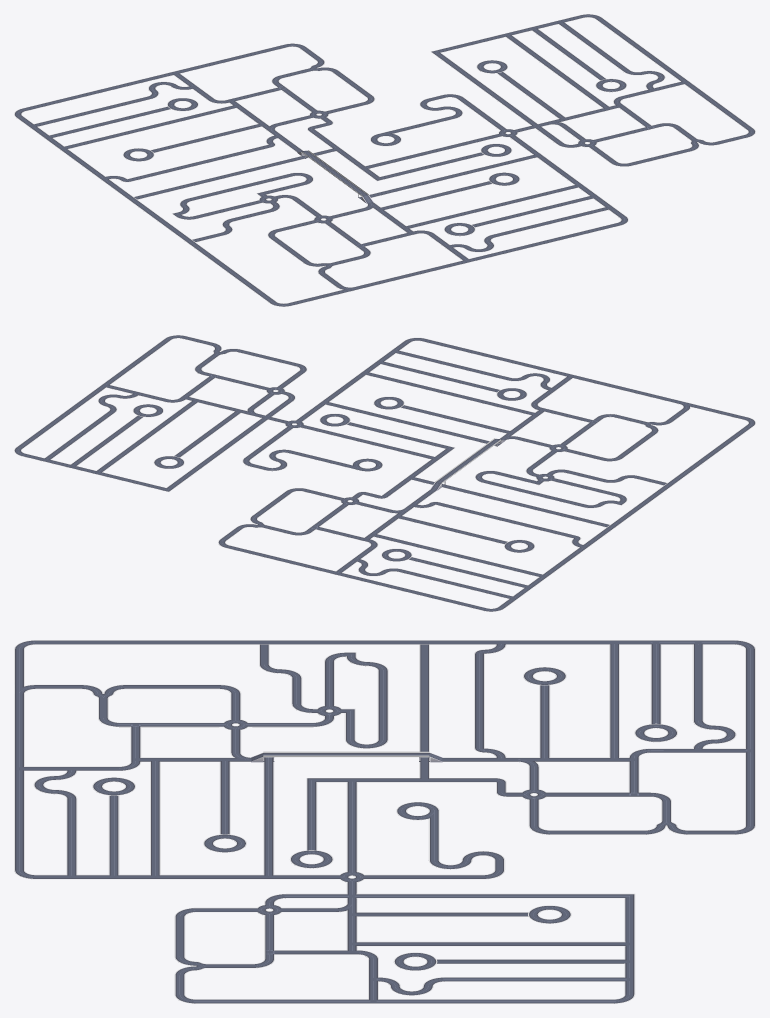
The model's file is City3RoadsFixed.glb.
3 views of the same model, one above another, from view 1: azimuth 30°, elevation 25°; view 2: azimuth 150°, elevation 25°; view 3: azimuth 270°, elevation 25° (orthographic). The views are drawn at different scales.
Parts seen in each view (by area): view 1: road-straight99, road-straight17, road-straight6, road-straight97, road-straight3, road-straight56, road-straight59, road-straight23, road-straight88, road-straight94, road-straight79, road-straight66 (+9 smaller); view 2: road-straight99, road-straight17, road-straight6, road-straight97, road-straight3, road-straight59, road-straight56, road-straight23, road-straight88, road-straight94, road-straight79, road-straight66 (+10 smaller); view 3: road-straight99, road-straight59, road-straight56, road-straight3, road-straight97, road-straight6, road-straight17, road-straight79, road-straight88, road-straight23, road-straight66, road-straight94 (+18 smaller).
Part boxes in pixels (left/top/right/bottom): road-straight99: left=103, top=179, right=262, bottom=293; road-straight17: left=134, top=155, right=306, bottom=199; road-straight6: left=407, top=185, right=578, bottom=228; road-straight97: left=64, top=105, right=235, bottom=149; road-straight3: left=369, top=154, right=536, bottom=197; road-straight56: left=434, top=53, right=537, bottom=125; road-straight59: left=505, top=35, right=609, bottom=107; road-straight23: left=469, top=223, right=620, bottom=261; road-straight88: left=22, top=72, right=173, bottom=111; road-straight94: left=128, top=144, right=271, bottom=181; road-straight79: left=595, top=17, right=686, bottom=81; road-straight66: left=365, top=134, right=499, bottom=168; road-straight99: left=583, top=434, right=739, bottom=546; road-straight17: left=442, top=484, right=609, bottom=527; road-straight6: left=366, top=372, right=534, bottom=415; road-straight97: left=374, top=534, right=542, bottom=576; road-straight3: left=326, top=402, right=489, bottom=443; road-straight59: left=96, top=401, right=197, bottom=472; road-straight56: left=166, top=418, right=267, bottom=489; road-straight23: left=422, top=338, right=569, bottom=376; road-straight88: left=338, top=573, right=486, bottom=610; road-straight94: left=435, top=502, right=577, bottom=538; road-straight79: left=16, top=386, right=105, bottom=448; road-straight66: left=303, top=425, right=434, bottom=459; road-straight99: left=73, top=640, right=496, bottom=644; road-straight59: left=357, top=941, right=625, bottom=946; road-straight56: left=356, top=893, right=624, bottom=898; road-straight3: left=263, top=761, right=274, bottom=874; road-straight97: left=609, top=644, right=619, bottom=757; road-straight6: left=150, top=762, right=160, bottom=875; road-straight17: left=419, top=644, right=429, bottom=758; road-straight79: left=378, top=999, right=613, bottom=1003; road-straight88: left=745, top=649, right=755, bottom=748; road-straight23: left=14, top=770, right=24, bottom=869; road-straight66: left=346, top=782, right=357, bottom=870; road-straight94: left=474, top=653, right=484, bottom=748.
Bounding box in the file's own units: 549 × 4.43 × 473.
Materials: 13 (13 with a texture image).
